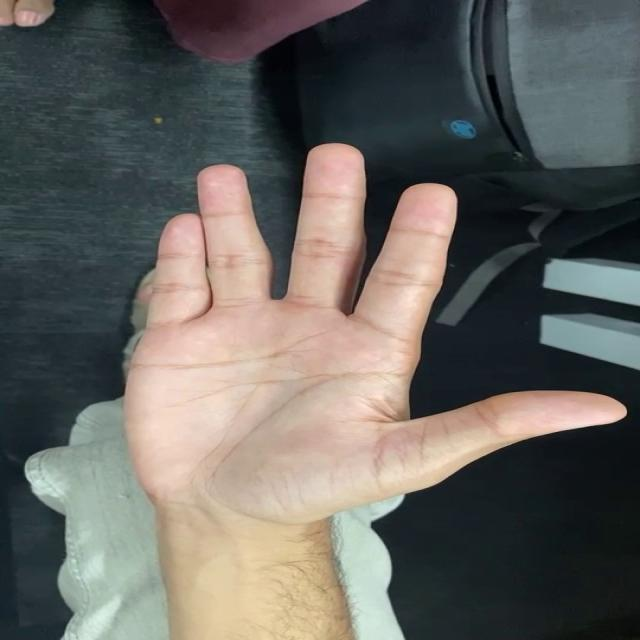no-gloves: (98, 115, 640, 545)
